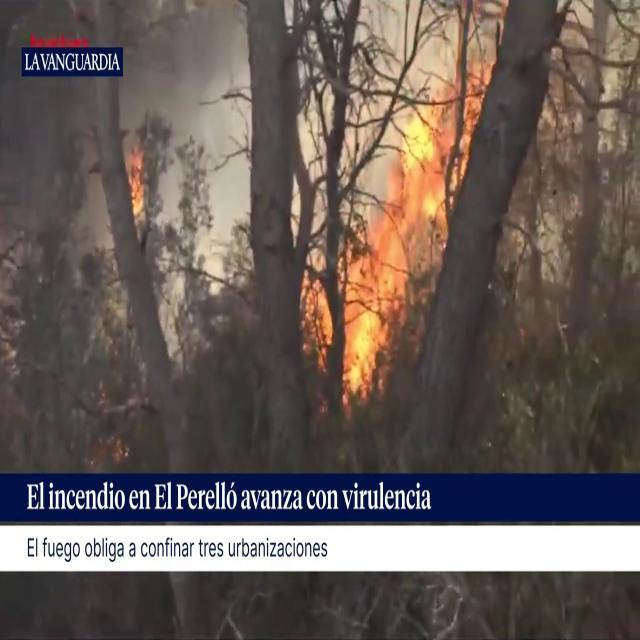Fire: (314, 27, 491, 409)
Smoke: (0, 0, 302, 458)
